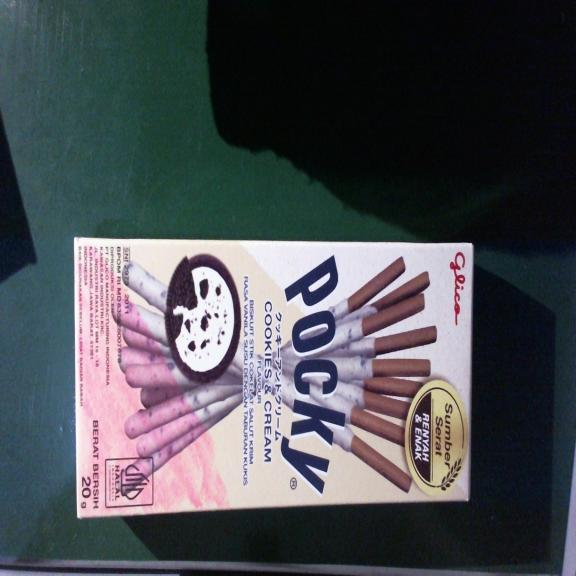Kertas: (72, 234, 472, 502)
